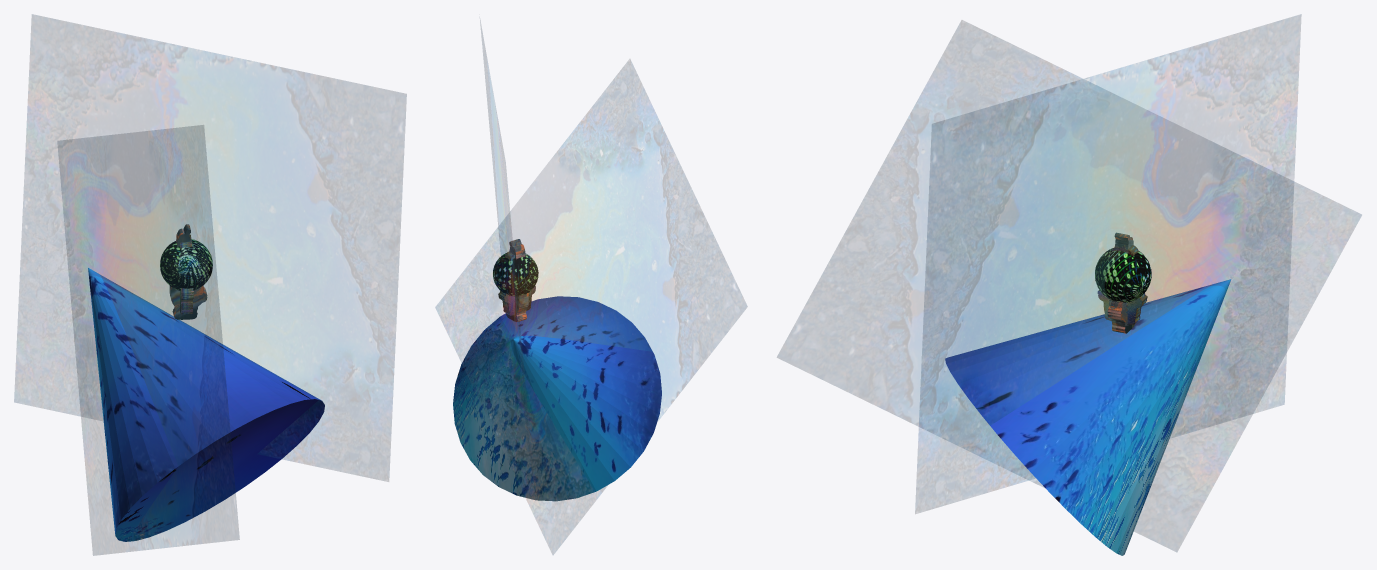
The model's file is isolated.labubu.glb.
3 renders of one model, left to right at view 1: azimuth 30°, elevation 25°; view 2: azimuth 150°, elevation 25°; view 3: azimuth 270°, elevation 25°, orthographic. The views are drawn at different scales.
Visible parts, largest first — view 1: Plane, Plane.001, Cone, Sphere, lebubu left side vertix; view 2: Plane.001, Cone, Plane, Sphere, lebubu left side vertix, labubu face vertices; view 3: Plane.001, Plane, Cone, Sphere, lebubu left side vertix, labubu face vertices.
Part boxes in pixels (left/top/right/bottom): Plane: left=14, top=14, right=406, bottom=481; Plane.001: left=58, top=125, right=239, bottom=555; Cone: left=88, top=268, right=324, bottom=541; Sphere: left=160, top=239, right=212, bottom=290; lebubu left side vertix: left=169, top=224, right=207, bottom=319; Plane.001: left=435, top=59, right=747, bottom=554; Cone: left=453, top=296, right=661, bottom=501; Plane: left=480, top=20, right=533, bottom=479; Sphere: left=493, top=253, right=538, bottom=296; lebubu left side vertix: left=506, top=239, right=528, bottom=321; labubu face vertices: left=498, top=252, right=535, bottom=315; Plane.001: left=777, top=20, right=1361, bottom=551; Plane: left=915, top=14, right=1301, bottom=513; Cone: left=945, top=279, right=1231, bottom=555; Sphere: left=1095, top=248, right=1151, bottom=302; lebubu left side vertix: left=1107, top=232, right=1134, bottom=333; labubu face vertices: left=1097, top=245, right=1147, bottom=324.
Bounding box in the file's own units: 50.25 × 98.76 × 97.36.
6 materials, 6 textured.
